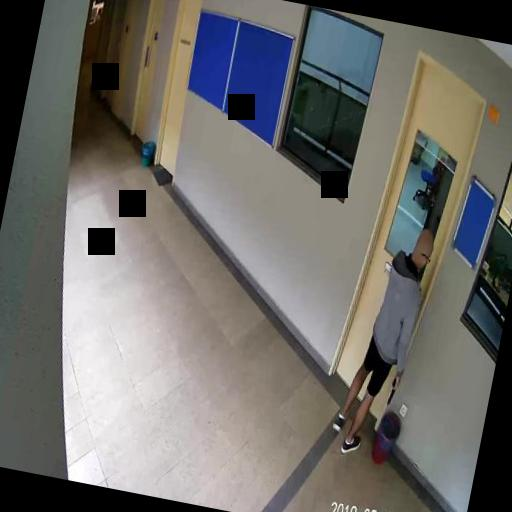Handgun: (385, 373, 401, 405)
